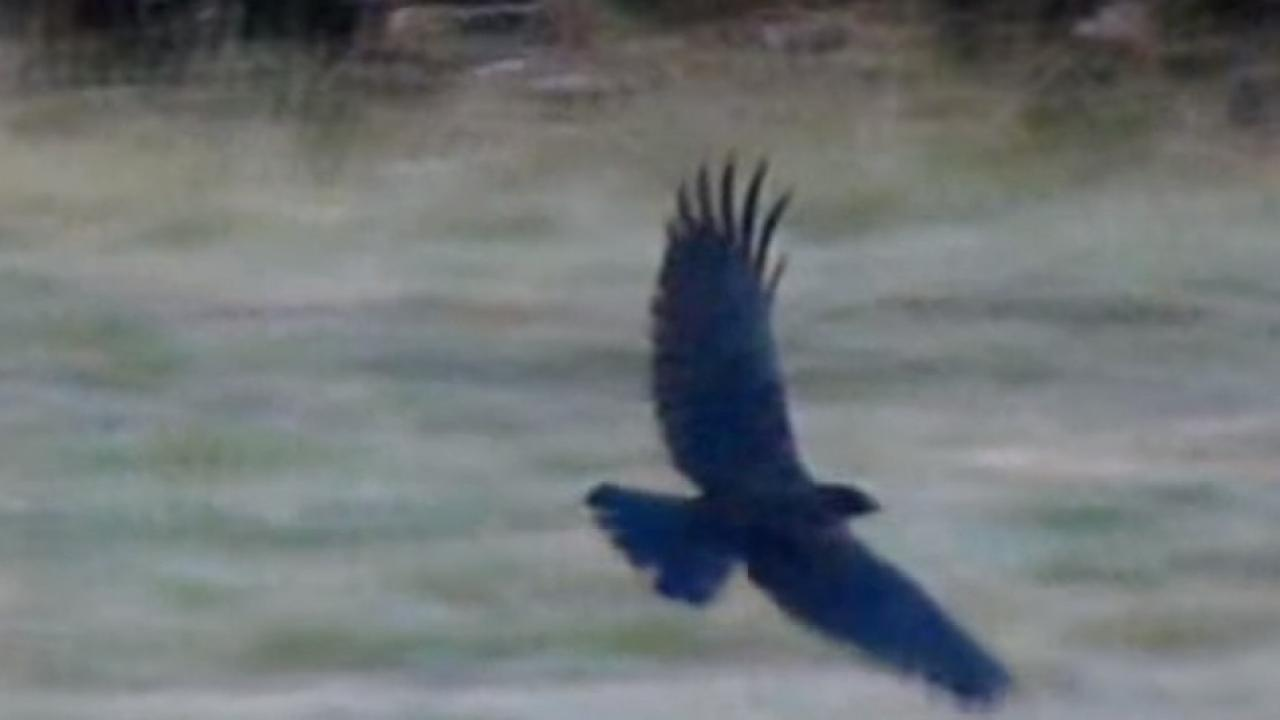Bird: (575, 142, 1024, 715)
